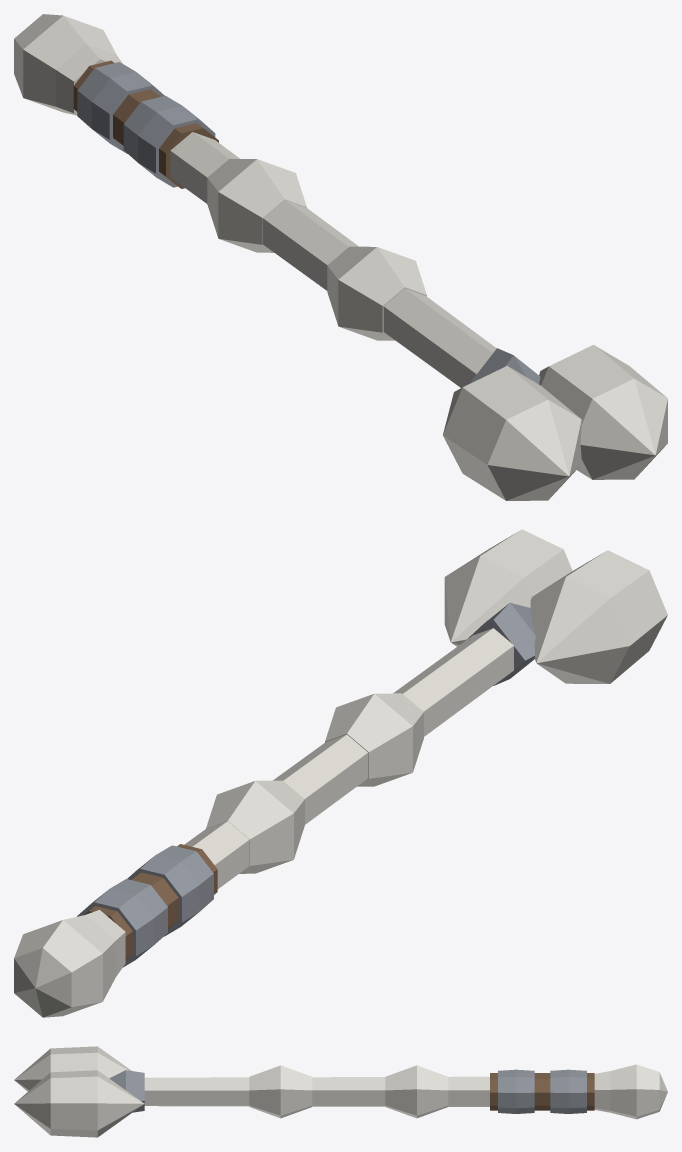
File: knucklewand.glb
3 views of the same model, one above another, from view 1: azimuth 30°, elevation 25°; view 2: azimuth 150°, elevation 25°; view 3: azimuth 270°, elevation 25° (orthographic). The views are drawn at different scales.
Visible parts, largest first — view 1: knucklewand; view 2: knucklewand; view 3: knucklewand.
Boxes of the visible parts, bbox=[...] form: knucklewand: bbox=[14, 14, 667, 500]; knucklewand: bbox=[14, 529, 667, 1017]; knucklewand: bbox=[14, 1046, 667, 1137].
Bounding box in the file's own units: 0.1167 × 0.0643 × 0.625.
